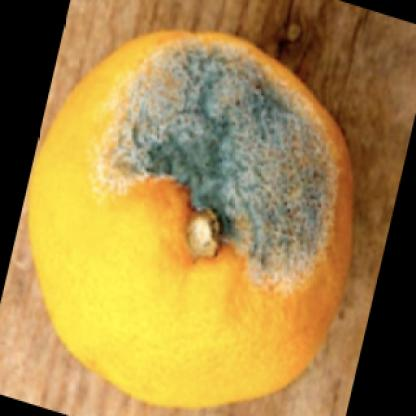rotten: (28, 31, 354, 409)
